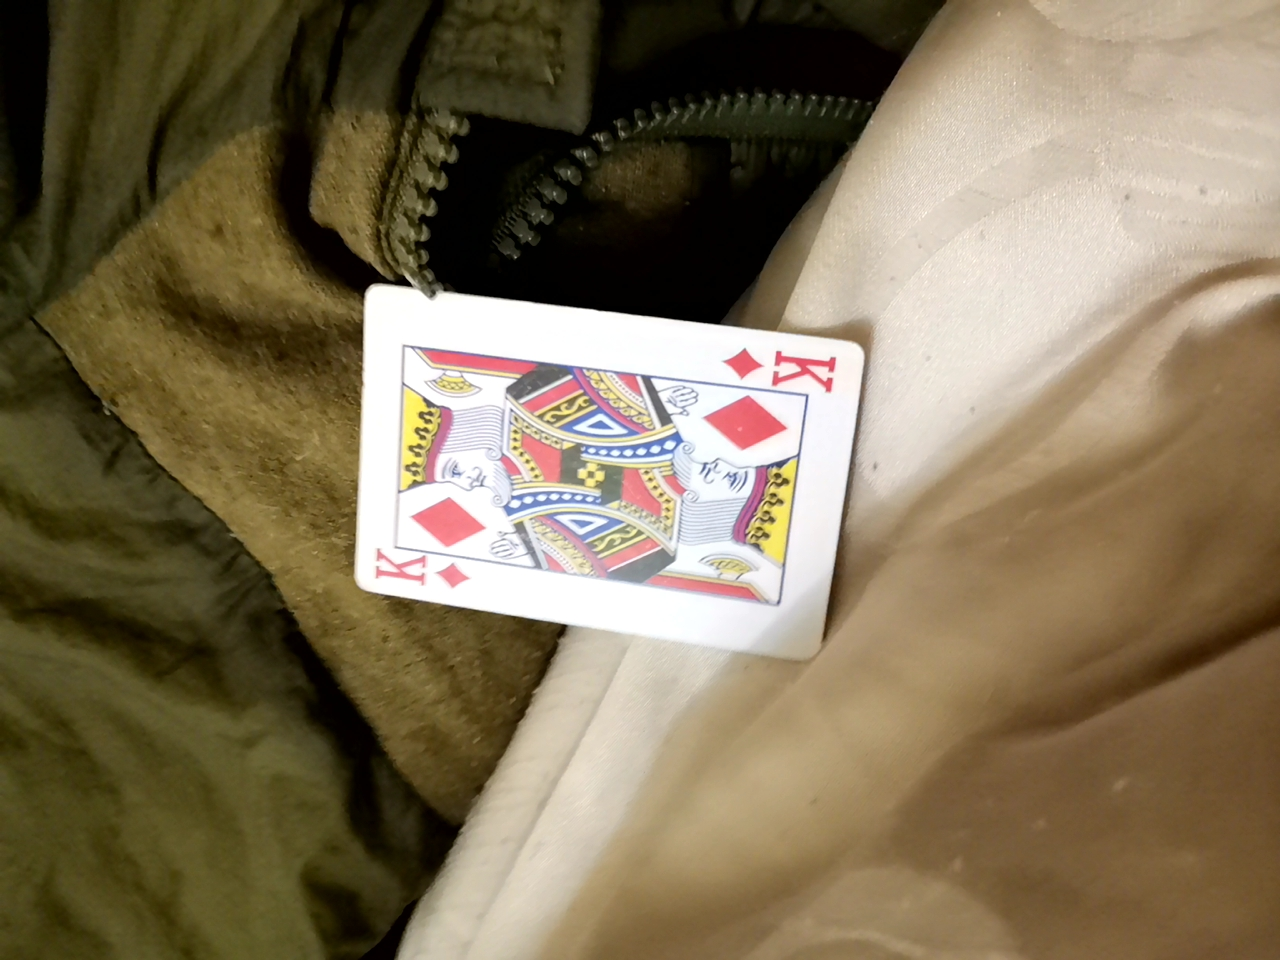fk k: (323, 278, 893, 687)
